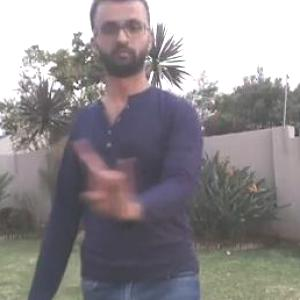takeoff-hand: (76, 134, 138, 218)
